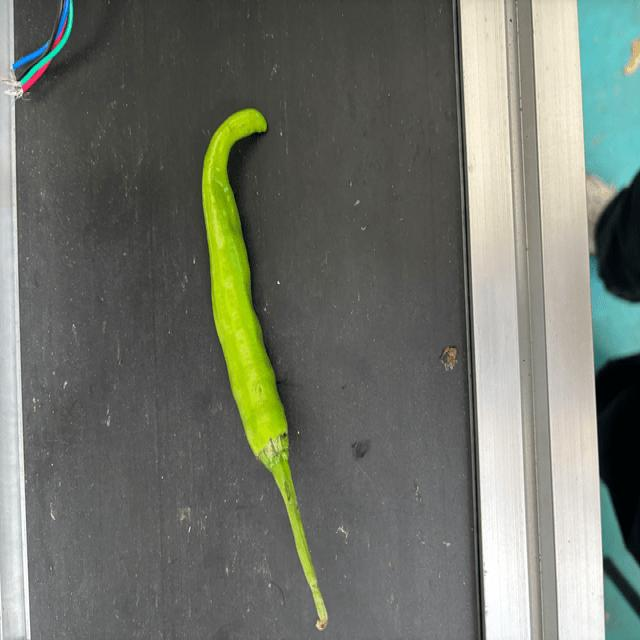chili: (198, 106, 292, 474)
